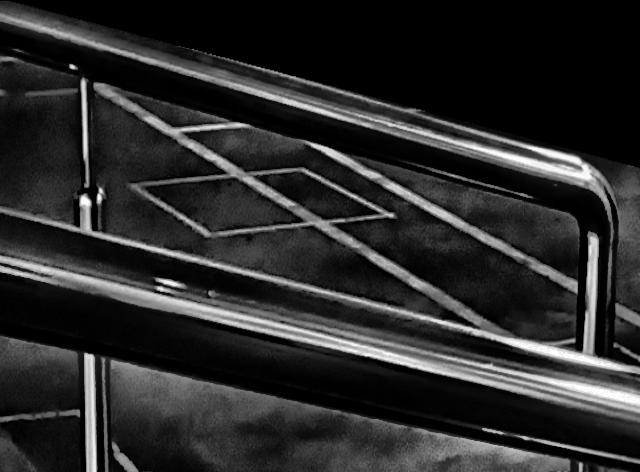obstacle: (0, 1, 640, 472)
